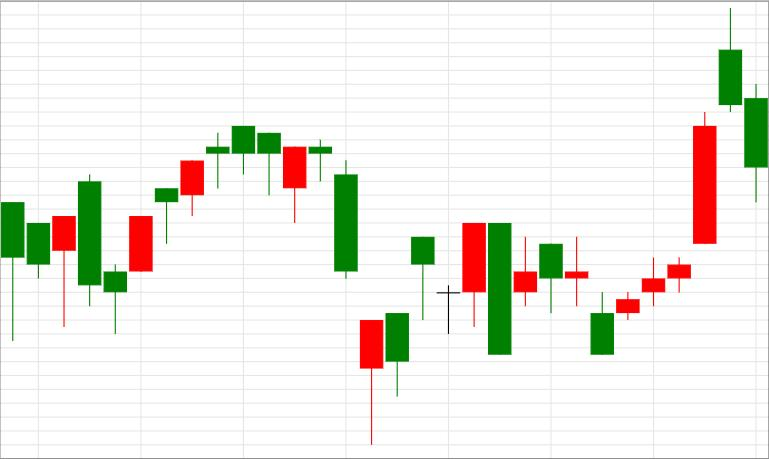hammer_rise: (206, 126, 382, 445)
